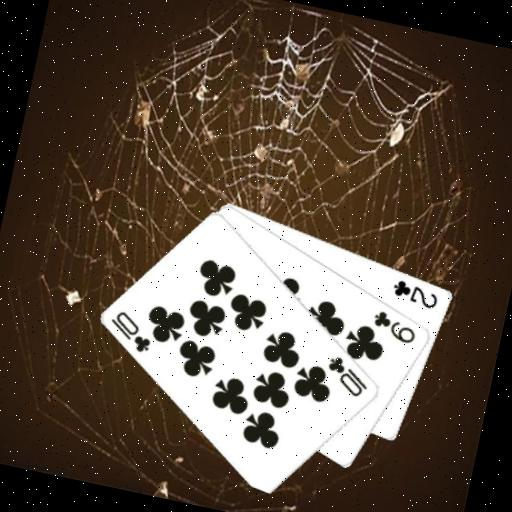10C: (319, 351, 375, 401), (103, 306, 159, 356)
2C: (388, 275, 443, 312)
9C: (366, 305, 421, 346)
